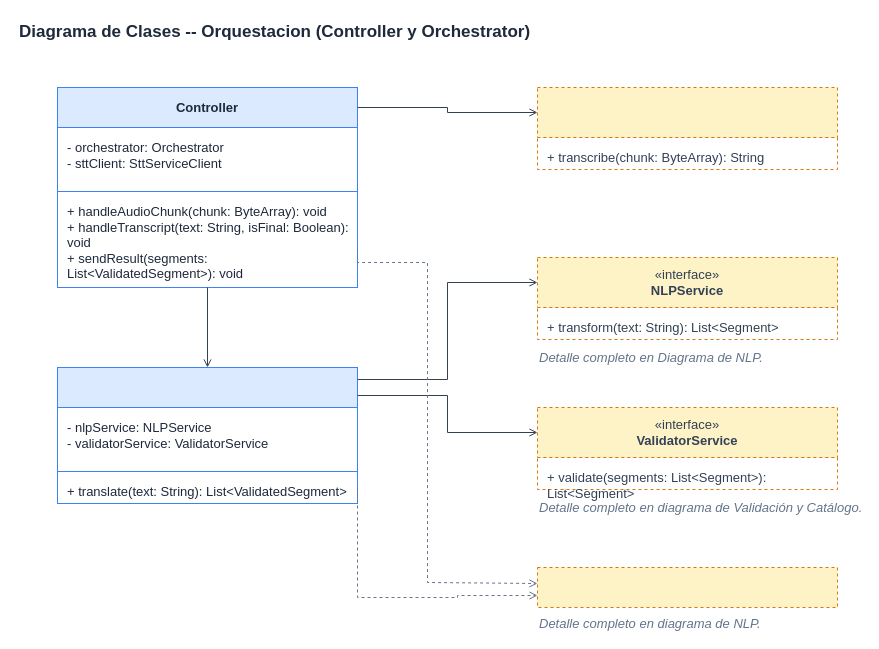
The diagram is 879 pixels wide and 649 high, and some of its shapes have lost their labels. The centre of each missing label's shape, as x and y in pixels:
Orchestrator: the point at 207,387
ValidatedSegment: the point at 687,587
«interface» SttServiceClient: the point at 687,112
